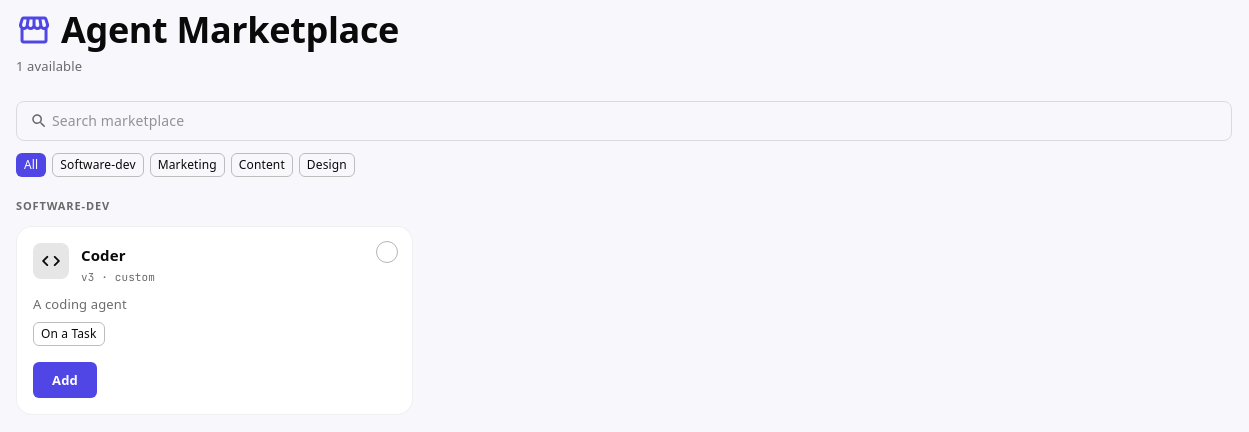
Test: Marketplace page › filters by category chip
The width and height of the screenshot is (1249, 432).
Expected: the text "Coder" is shown, [81,245,126,265]
Click the button "Marketing" at (187, 165), box [150,153,225,177]
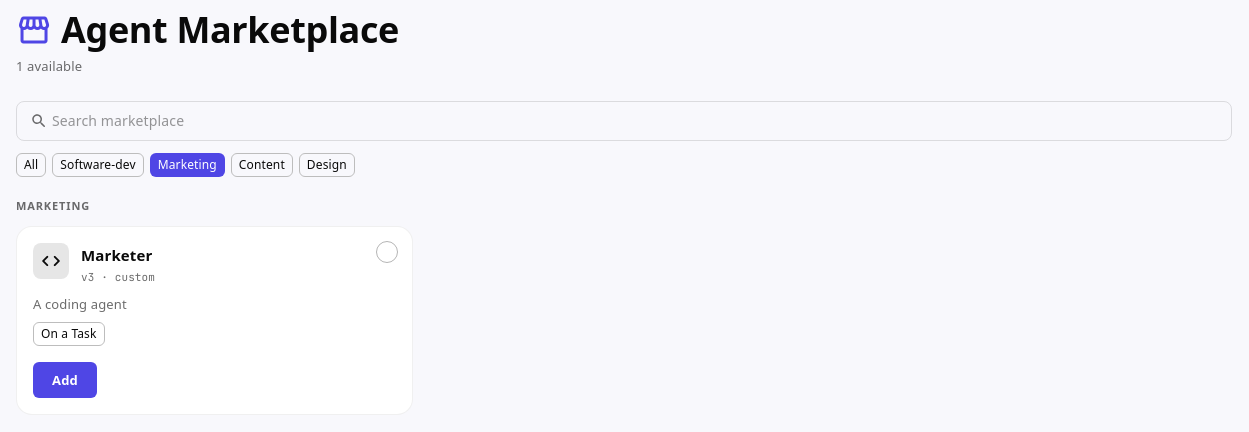
Now the text "Marketer" is shown, box [81,245,152,265]
